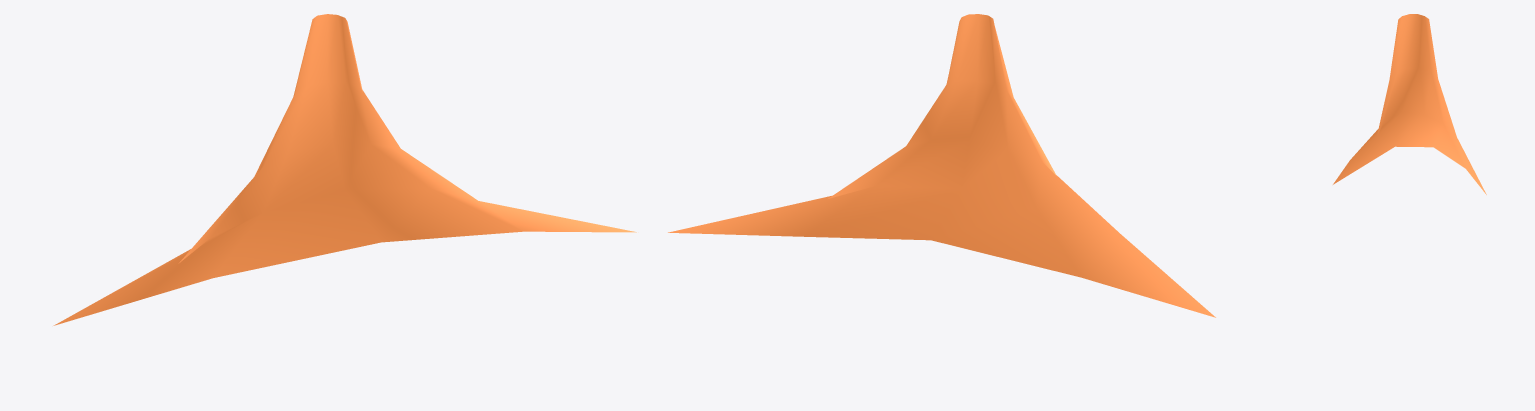
Rendered from prop-volcano-07.glb.
The picture shows the model from 3 angles, left to right: view 1: azimuth 30°, elevation 25°; view 2: azimuth 150°, elevation 25°; view 3: azimuth 270°, elevation 25°; orthographic projection. The views are drawn at different scales.
Visible parts, largest first — view 1: volcano; view 2: volcano; view 3: volcano.
Boxes of the visible parts, x1=… form: volcano: x1=53, y1=14, x2=636, y2=325; volcano: x1=668, y1=14, x2=1215, y2=317; volcano: x1=1333, y1=14, x2=1486, y2=194.
Bounding box in the file's own units: 2.23 × 1 × 0.7446.
